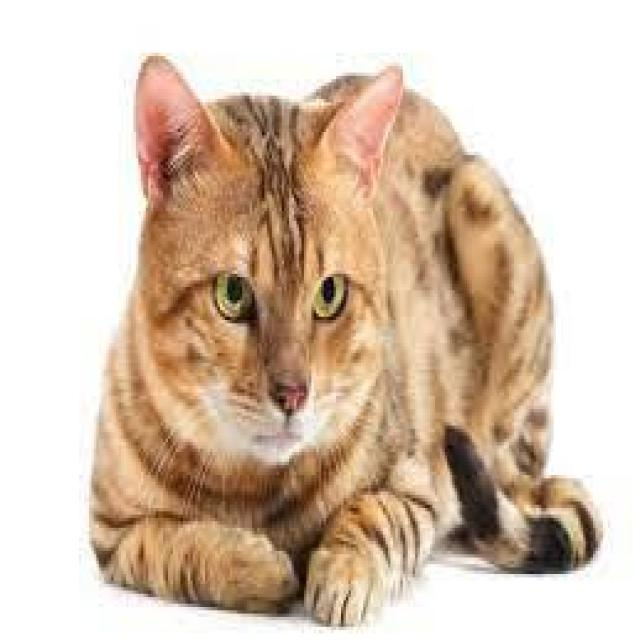Cat: (128, 46, 408, 476)
